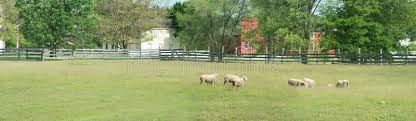sheep: (197, 69, 217, 87), (230, 75, 248, 90), (224, 73, 240, 88), (301, 75, 315, 92), (334, 79, 352, 91), (285, 77, 302, 88)
